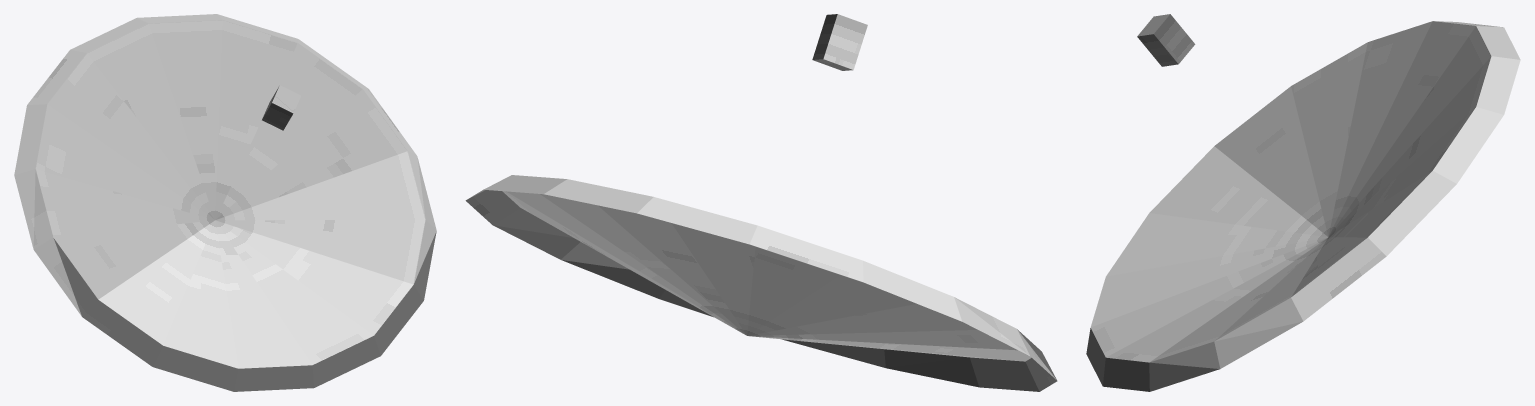
File: primary_159.glb
3 renders of one model, left to right at view 1: azimuth 30°, elevation 25°; view 2: azimuth 150°, elevation 25°; view 3: azimuth 270°, elevation 25°, orthographic. The views are drawn at different scales.
Parts seen in each view (by area): view 1: Object; view 2: Object; view 3: Object.
Boxes of the visible parts, <box> form: Object: <box>14,14,436,391</box>; Object: <box>465,14,1057,391</box>; Object: <box>1086,14,1520,391</box>.
Bounding box in the file's own units: 3.6 × 2.49 × 2.88.
Materials: 6 (6 with a texture image).
